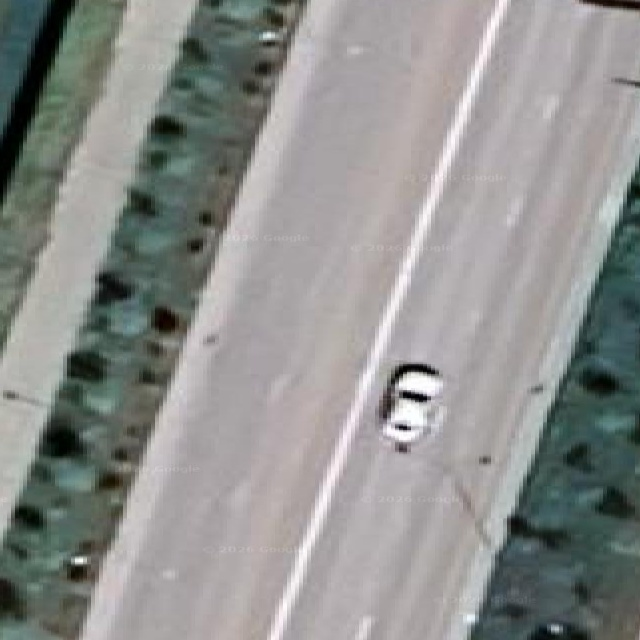car: (380, 364, 444, 451), (579, 0, 639, 9)
